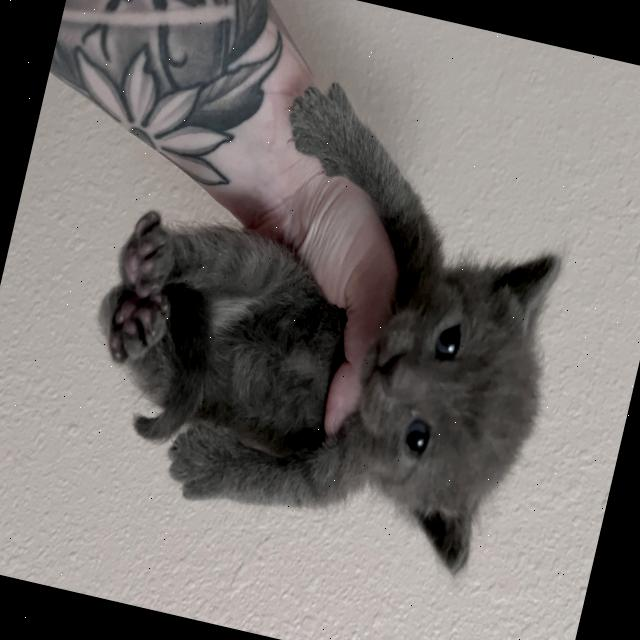russian_blue_cat: (314, 205, 586, 595)
